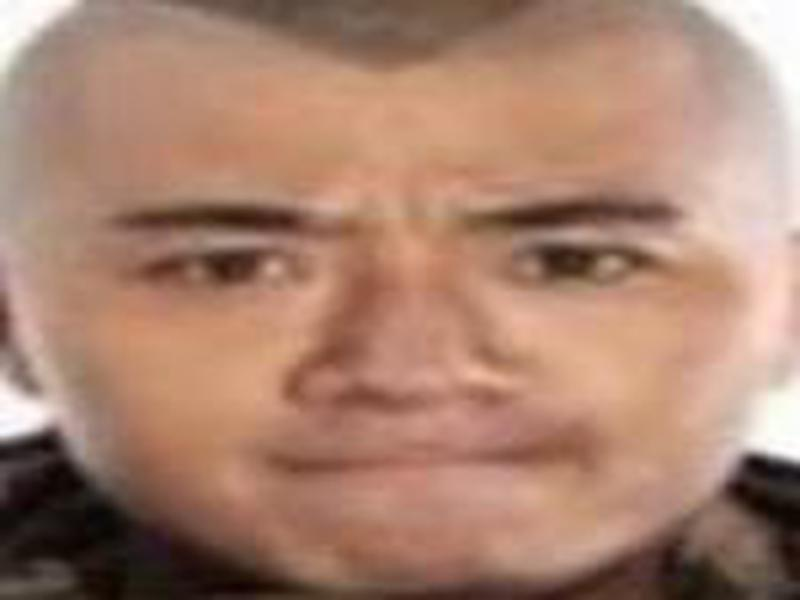without_mask: (1, 31, 778, 597)
